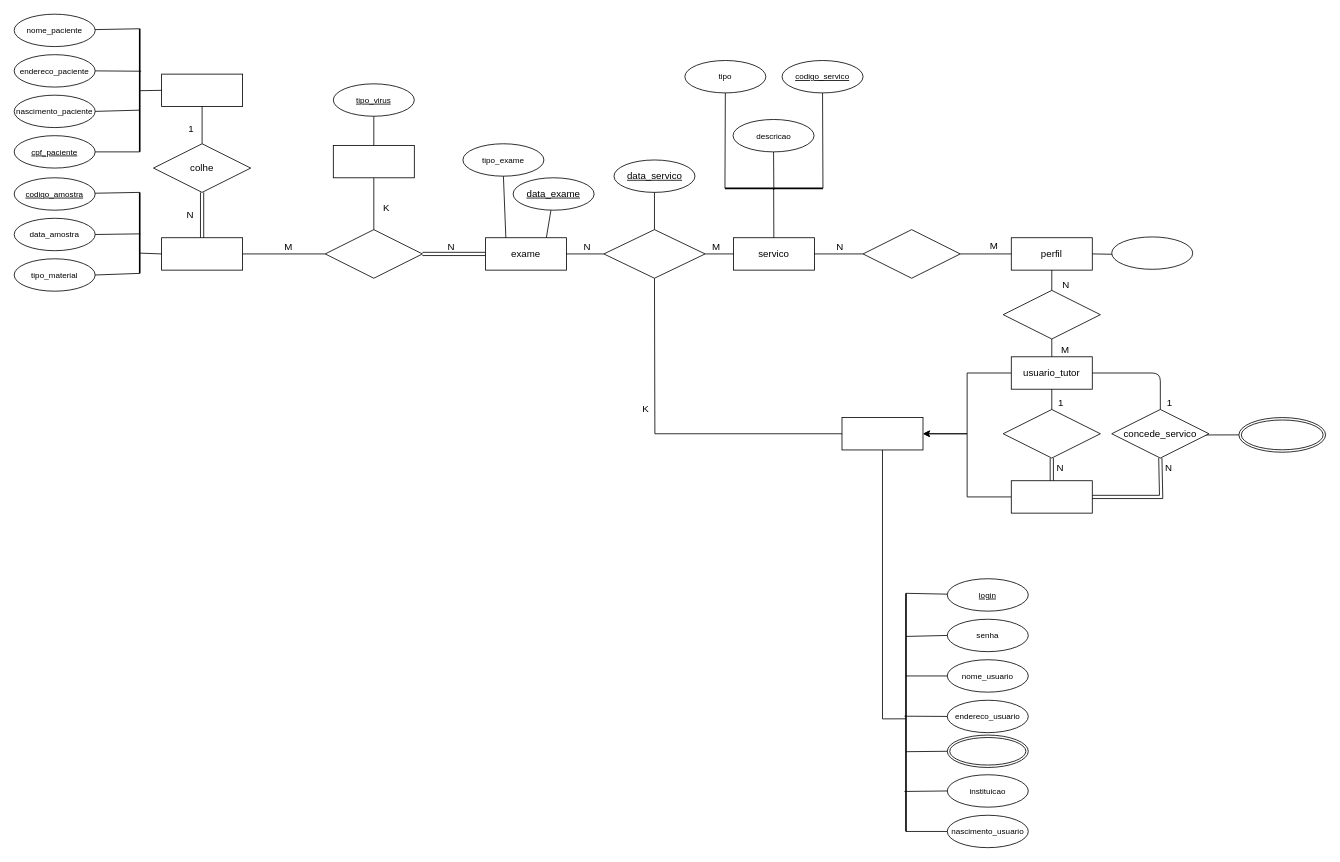
This 1340x862 diagram has some shape labels left out. Each missing label, with the centre of its shape:
"amostra" belongs at point 202,253.
"area_pesquisa" belongs at point 987,750.
"eh_analizada" belongs at point 373,253.
"funcao" belongs at point 1152,252.
"paciente" belongs at point 202,90.
"realiza_servico" belongs at point 654,253.
"servicos_disponiveis" belongs at point 1282,434.
"tem_perfil" belongs at point 1051,314.
"tem_permissao" belongs at point 911,253.
"tutela" belongs at point 1051,433.
"usuario" belongs at point 882,433.
"usuario_tutelado" belongs at point 1051,496.
"Virus" belongs at point 373,161.
